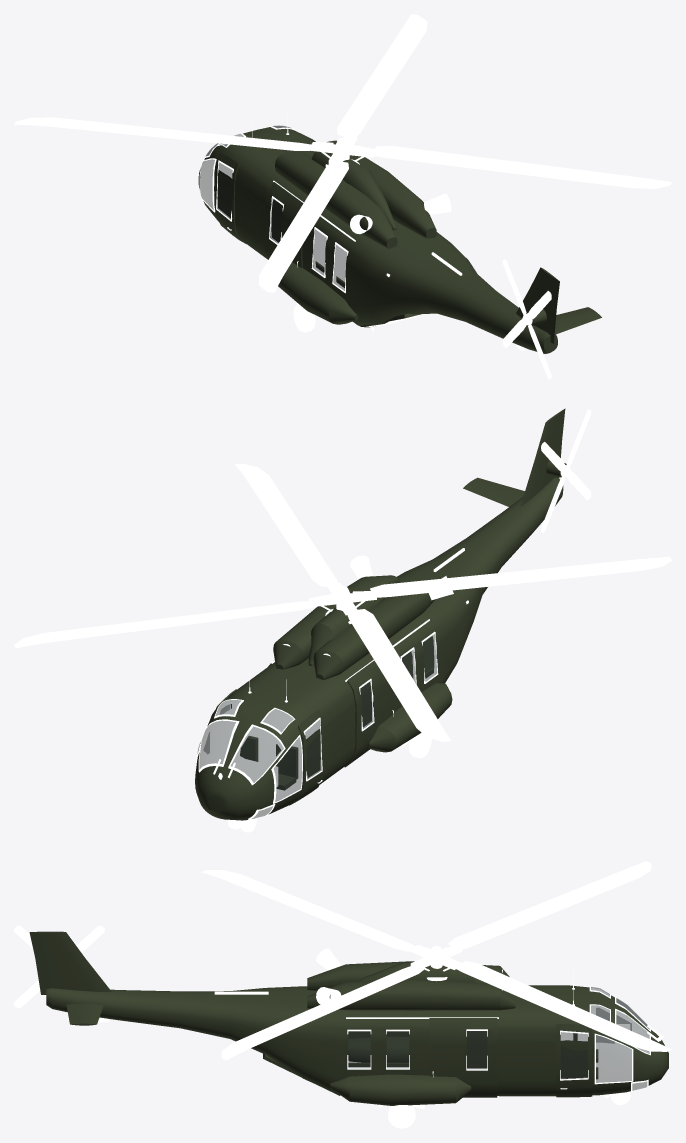
The model's file is nh90_tth.glb.
3 renders of one model, top to bottom at view 1: azimuth 30°, elevation 25°; view 2: azimuth 150°, elevation 25°; view 3: azimuth 270°, elevation 25°, orthographic. The views are drawn at different scales.
Parts seen in each view (by area): view 1: Body_LOD0, Blade_3_LOD0, Blade_2_LOD0, Blade_4_LOD0, Blade_1_LOD0, Door_Slide_L_LOD0, Door_CoPilot_LOD0, TailRotor_LOD0, MainRotor_LOD0; view 2: Body_LOD0, Blade_2_LOD0, Blade_1_LOD0, Blade_3_LOD0, Blade_4_LOD0, Door_Slide_L_LOD0, Door_CoPilot_LOD0, TailRotor_LOD0, MainRotor_LOD0; view 3: Body_LOD0, Door_Slide_R_LOD0, Blade_4_LOD0, Blade_1_LOD0, Blade_3_LOD0, Blade_2_LOD0, Door_Pilot_LOD0, MainRotor_LOD0, TailRotor_LOD0.
Boxes of the visible parts, x1,y1,x2,y2 form: Body_LOD0: [198, 113, 601, 353]; Blade_3_LOD0: [373, 145, 671, 188]; Blade_2_LOD0: [258, 162, 348, 292]; Blade_4_LOD0: [337, 14, 427, 136]; Blade_1_LOD0: [14, 117, 311, 150]; Door_Slide_L_LOD0: [265, 182, 303, 268]; Door_CoPilot_LOD0: [214, 152, 245, 243]; TailRotor_LOD0: [502, 259, 551, 379]; MainRotor_LOD0: [310, 133, 376, 166]; Body_LOD0: [195, 408, 566, 832]; Blade_2_LOD0: [370, 556, 671, 597]; Blade_1_LOD0: [347, 609, 450, 741]; Blade_3_LOD0: [235, 463, 337, 586]; Blade_4_LOD0: [14, 601, 315, 648]; Door_Slide_L_LOD0: [344, 660, 393, 767]; Door_CoPilot_LOD0: [289, 709, 324, 805]; TailRotor_LOD0: [541, 409, 591, 532]; MainRotor_LOD0: [309, 582, 376, 623]; Body_LOD0: [29, 931, 668, 1128]; Door_Slide_R_LOD0: [429, 1018, 497, 1097]; Blade_4_LOD0: [455, 961, 671, 1051]; Blade_1_LOD0: [448, 861, 651, 949]; Blade_3_LOD0: [221, 965, 424, 1059]; Blade_2_LOD0: [201, 870, 415, 951]; Door_Pilot_LOD0: [556, 1024, 592, 1097]; MainRotor_LOD0: [410, 945, 462, 981]; TailRotor_LOD0: [14, 925, 104, 1008].
Size of what is drawn, in the model's own units: 12.2 by 5 by 17.05.
